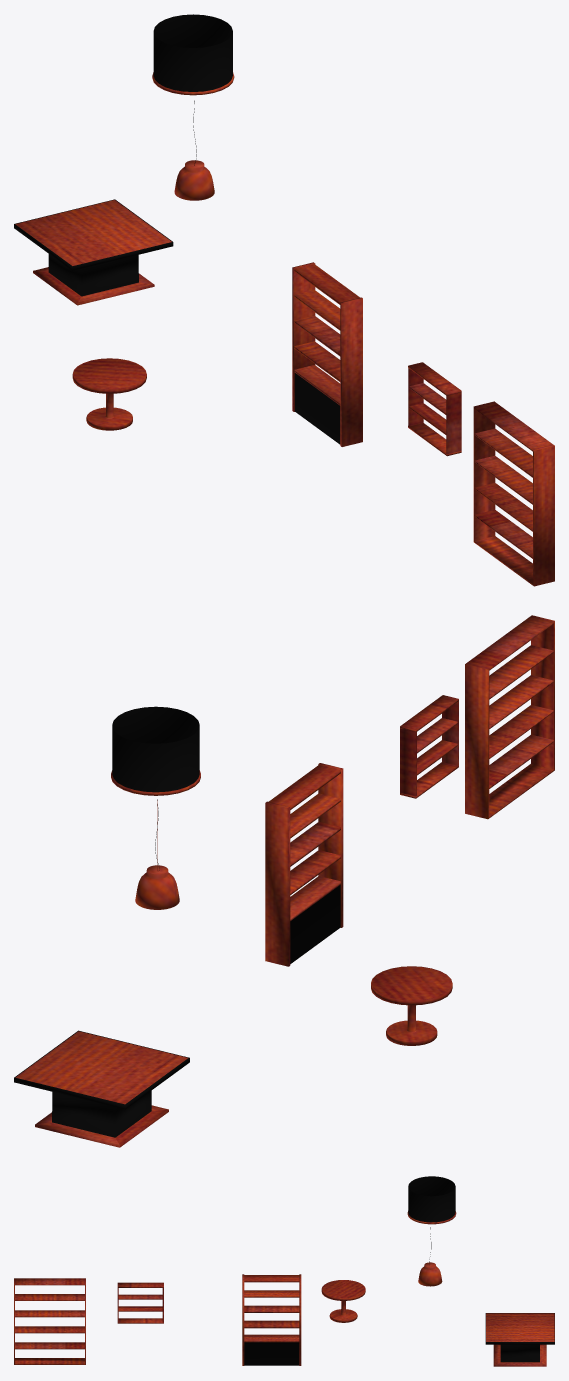
The model's file is only standard.fbx.
3 renders of one model, top to bottom at view 1: azimuth 30°, elevation 25°; view 2: azimuth 150°, elevation 25°; view 3: azimuth 270°, elevation 25°, orthographic. The views are drawn at different scales.
Visible parts, largest first — view 1: Object001, Object003, Object007, Object006, Object002, Object004, Object005; view 2: Object001, Object003, Object007, Object006, Object002, Object004, Object005; view 3: Object003, Object007, Object001, Object006, Object002, Object004, Object005.
Part boxes in pixels (x1,y1,x2,y2): Object001: (473, 401, 554, 586); Object003: (292, 262, 362, 446); Object007: (14, 199, 173, 305); Object006: (152, 14, 234, 95); Object002: (408, 362, 461, 456); Object004: (72, 358, 146, 430); Object005: (174, 100, 214, 200); Object001: (465, 615, 554, 819); Object003: (265, 763, 343, 966); Object007: (14, 1030, 189, 1147); Object006: (111, 706, 200, 795); Object002: (400, 695, 458, 798); Object004: (371, 966, 452, 1045); Object005: (135, 799, 179, 909); Object003: (242, 1274, 301, 1365); Object007: (485, 1313, 554, 1366); Object001: (14, 1278, 85, 1364); Object006: (407, 1176, 456, 1224); Object002: (117, 1282, 163, 1323); Object004: (321, 1280, 365, 1322); Object005: (418, 1227, 442, 1286).
Bounding box in the file's own units: 440 × 553 × 1537.
1 material, 1 textured.
